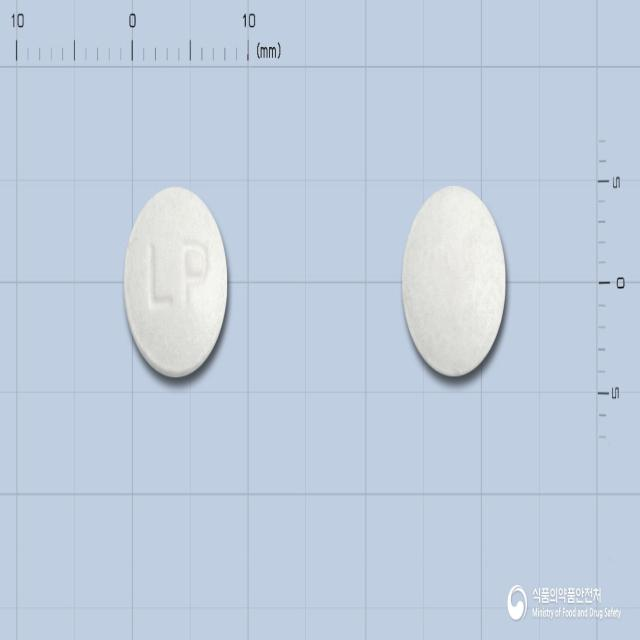Nofaxin Tab: (124, 185, 228, 379)
